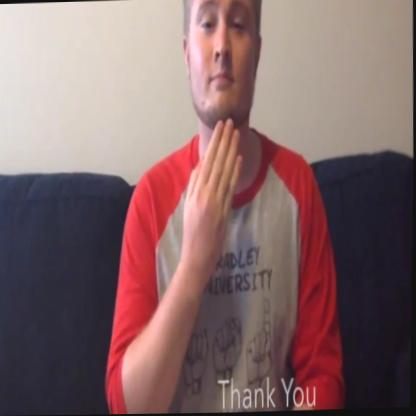ThankYou: (170, 0, 279, 294)
